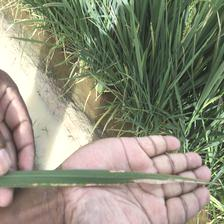2 BacterialBlight: (48, 165, 219, 199)
